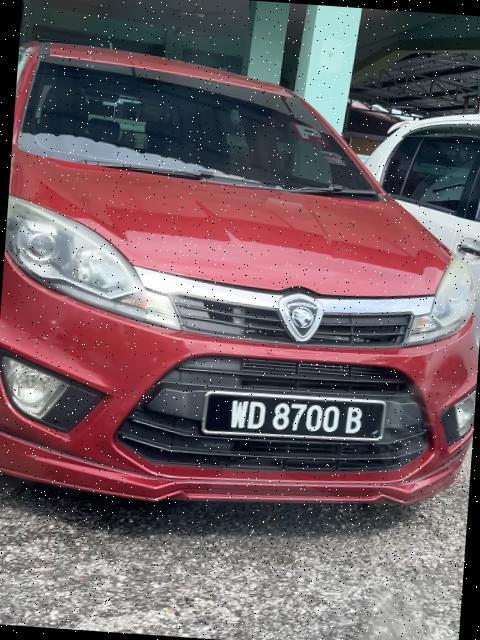License_Plate: (196, 383, 391, 452)
WD8700B: (196, 383, 391, 452)
car: (1, 36, 480, 529)
